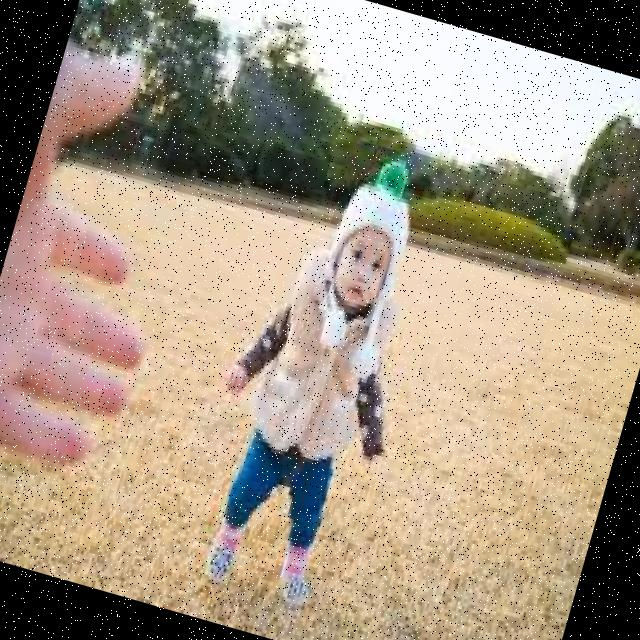Person: (174, 130, 462, 613)
